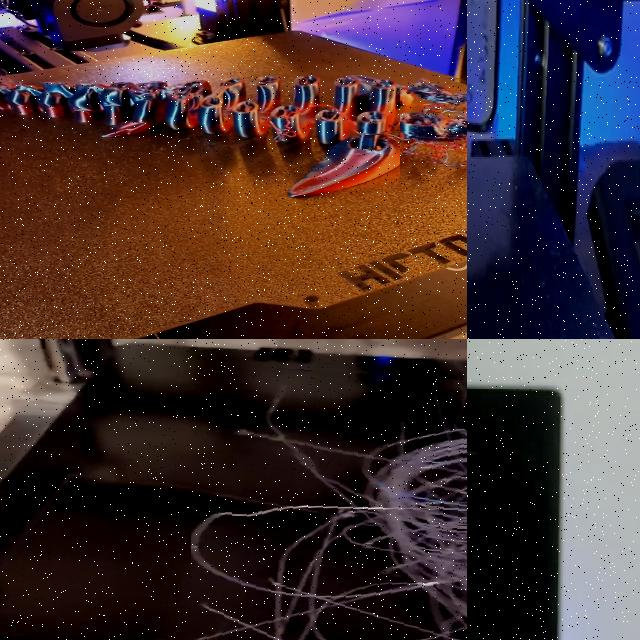spaghetti: (191, 362, 467, 640), (400, 75, 467, 180)
